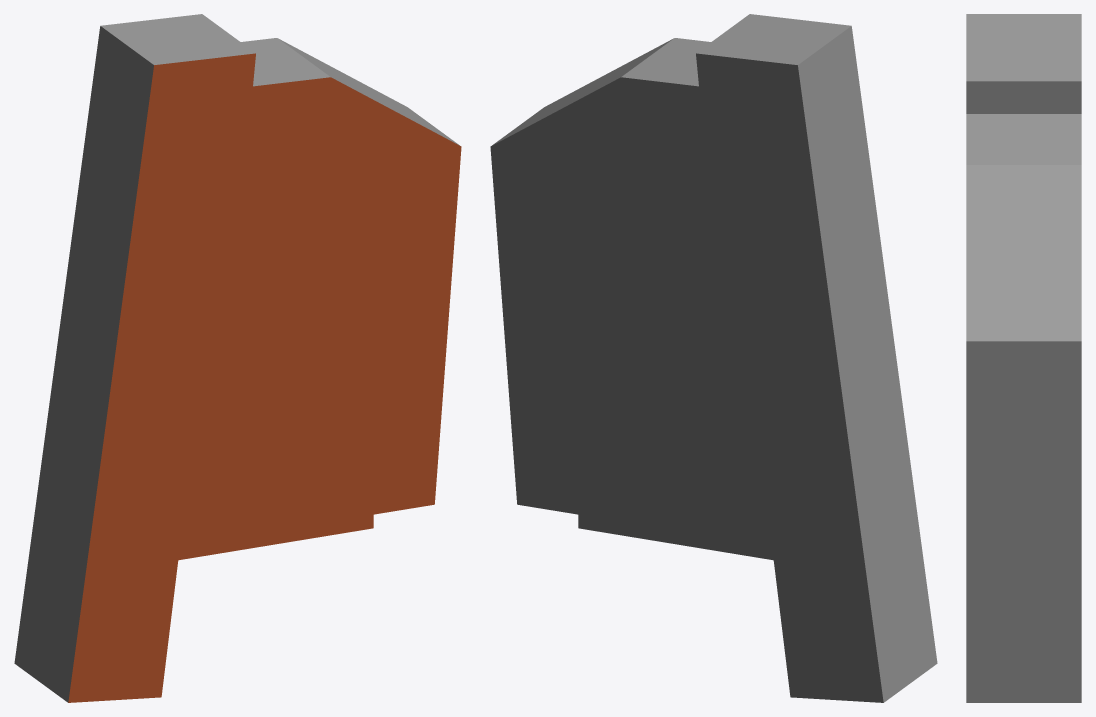
File: construction_4966_assumed_A_Casa_h6m.obj
3 renders of one model, left to right at view 1: azimuth 30°, elevation 25°; view 2: azimuth 150°, elevation 25°; view 3: azimuth 270°, elevation 25°, orthographic. The views are drawn at different scales.
Parts seen in each view (by area): view 1: construction_4966_assumed_A_Casa; view 2: construction_4966_assumed_A_Casa; view 3: construction_4966_assumed_A_Casa.
Part boxes in pixels (left/top/right/bottom): construction_4966_assumed_A_Casa: left=14, top=14, right=461, bottom=702; construction_4966_assumed_A_Casa: left=490, top=14, right=937, bottom=702; construction_4966_assumed_A_Casa: left=966, top=14, right=1081, bottom=702.
Size of the model in its own units: 25.29 by 38.97 by 6.
